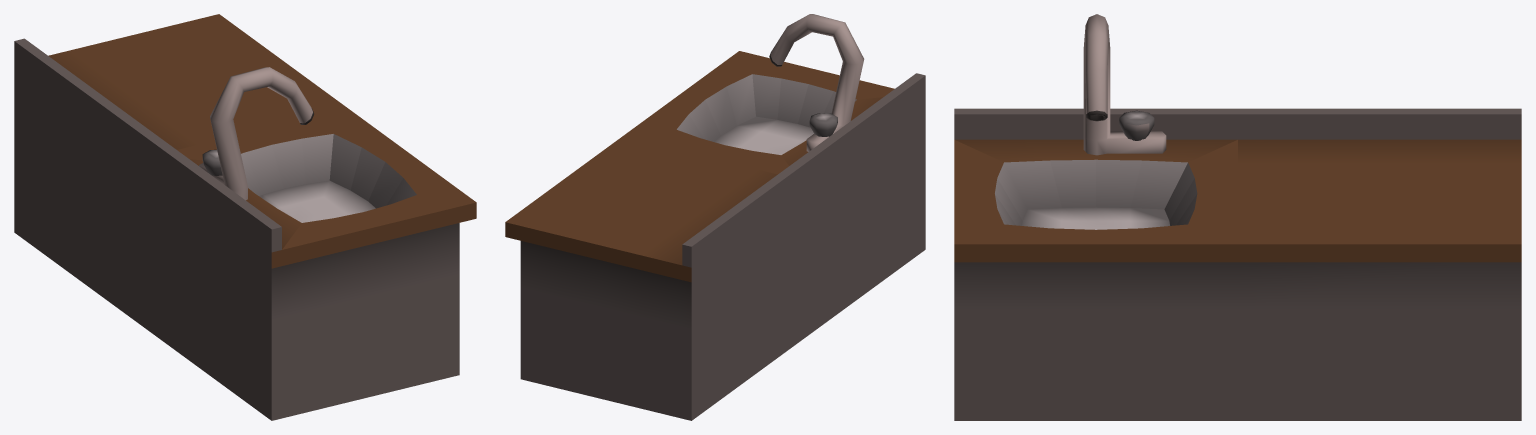
Rendered from Cozinha_02.fbx.
The picture shows the model from 3 angles, left to right: view 1: azimuth 30°, elevation 25°; view 2: azimuth 150°, elevation 25°; view 3: azimuth 270°, elevation 25°; orthographic projection. The views are drawn at different scales.
Visible parts, largest first — view 1: Plane.001; view 2: Plane.001; view 3: Plane.001.
Boxes of the visible parts, x1,y1,x2,y2 form: Plane.001: (14,14,476,420); Plane.001: (505,14,925,420); Plane.001: (954,14,1521,420).
Bounding box in the file's own units: 231 × 313 × 502.
